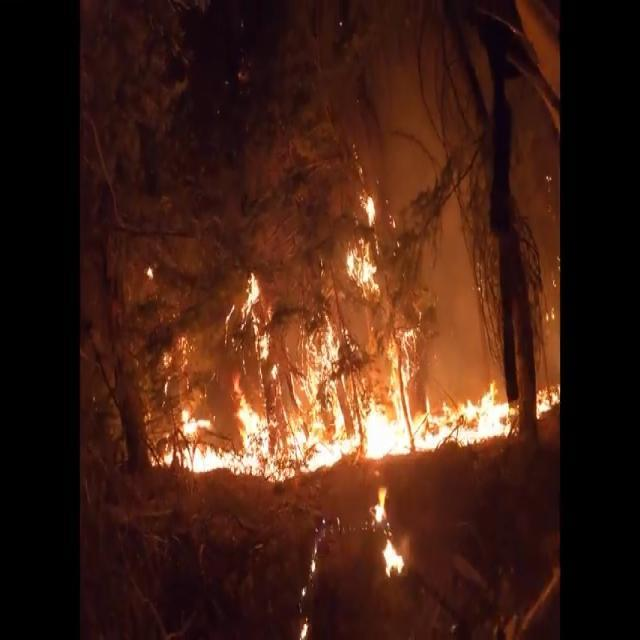Fire: (138, 184, 561, 584)
